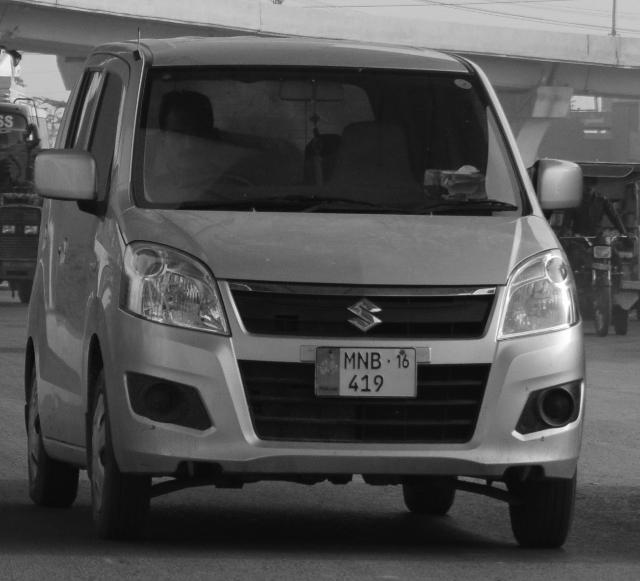Number: (342, 353, 384, 395)
